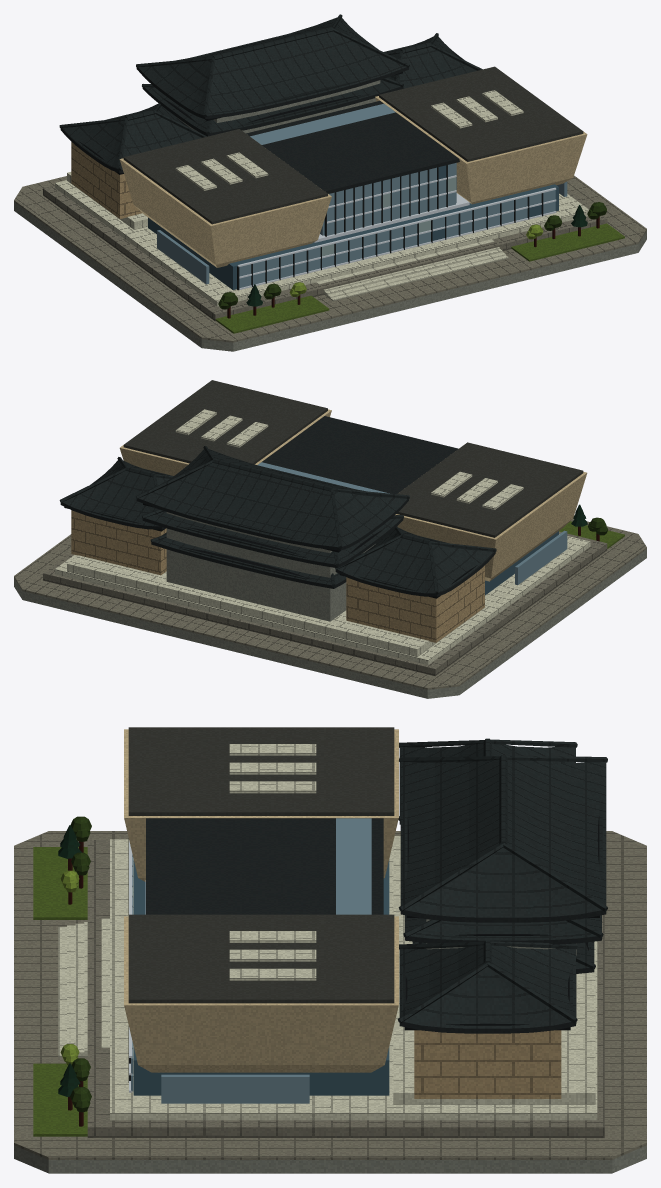
Rendered from hubei-museum.glb.
The picture shows the model from 3 angles, top to bottom: view 1: azimuth 30°, elevation 25°; view 2: azimuth 150°, elevation 25°; view 3: azimuth 270°, elevation 25°; orthographic projection. The views are drawn at different scales.
Visible parts, largest first — view 1: 湖北省博物馆; view 2: 湖北省博物馆; view 3: 湖北省博物馆.
Boxes of the visible parts, x1,y1,x2,y2 form: 湖北省博物馆: [14, 14, 646, 351]; 湖北省博物馆: [14, 380, 646, 698]; 湖北省博物馆: [14, 727, 646, 1173].
Size of the model in its own units: 11.3 by 3.42 by 9.26.
19 materials, 15 textured.
